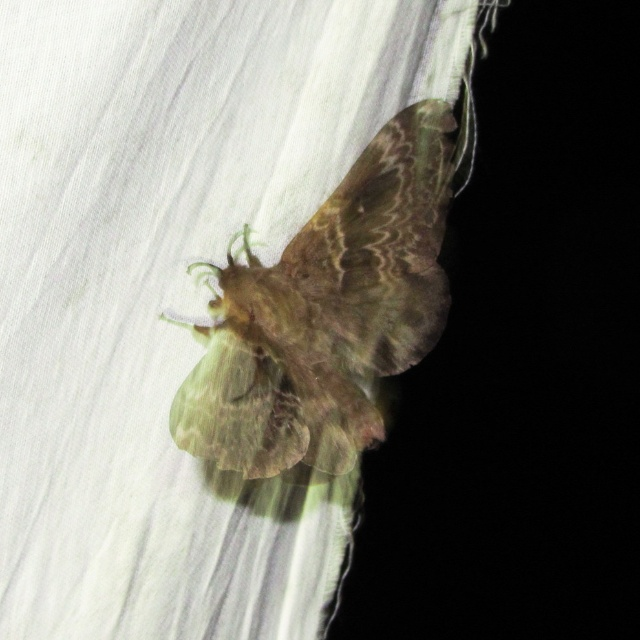Moths and butterflies: (150, 92, 455, 481)
